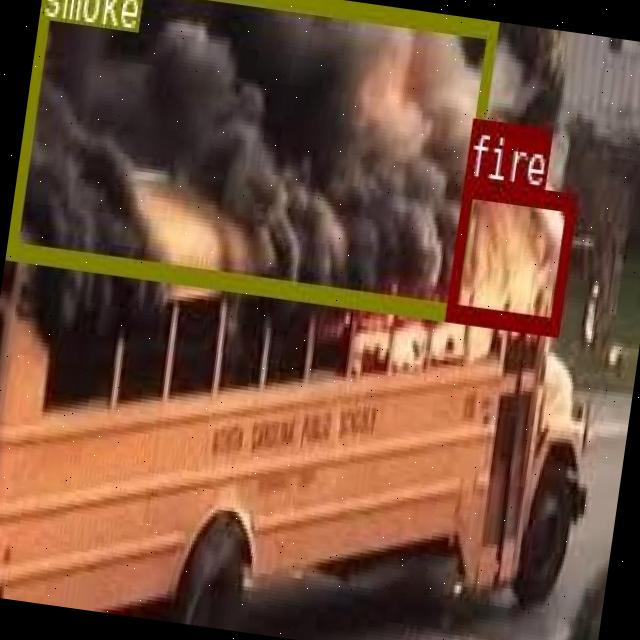fire: (446, 177, 576, 332)
smoke: (6, 0, 495, 319)
